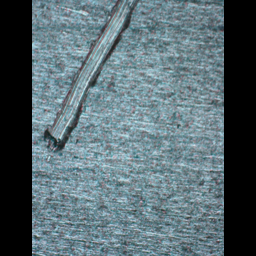d: (42, 0, 141, 152)
